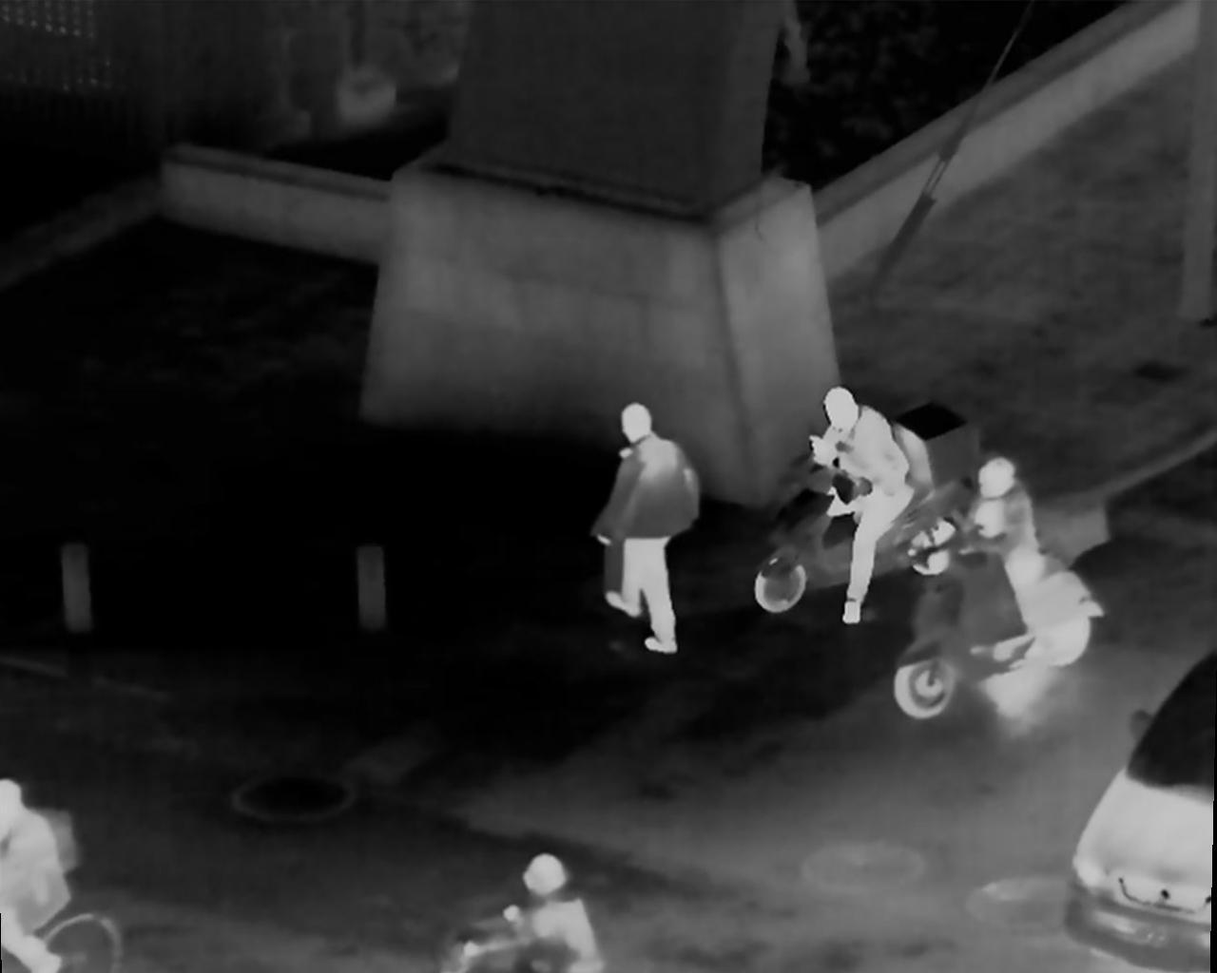person: (809, 383, 918, 634), (608, 397, 691, 635), (943, 457, 1033, 672), (492, 848, 627, 973)
